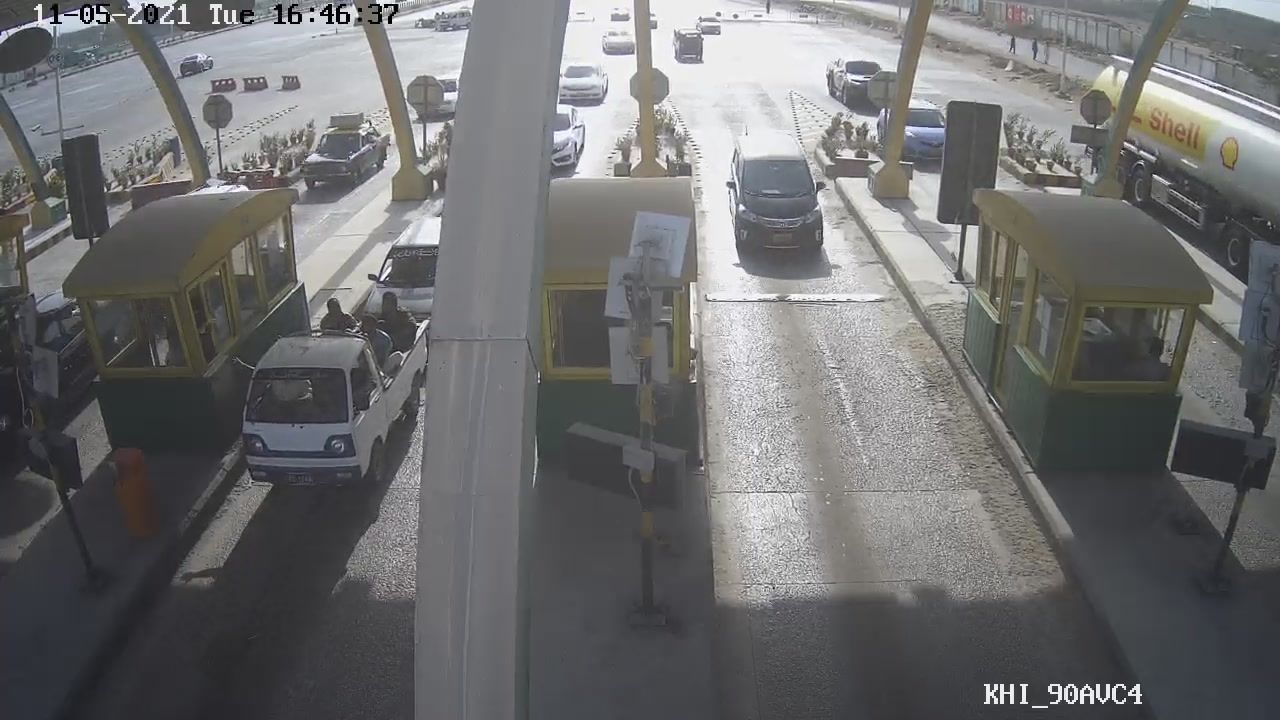F1: (719, 121, 832, 270)
